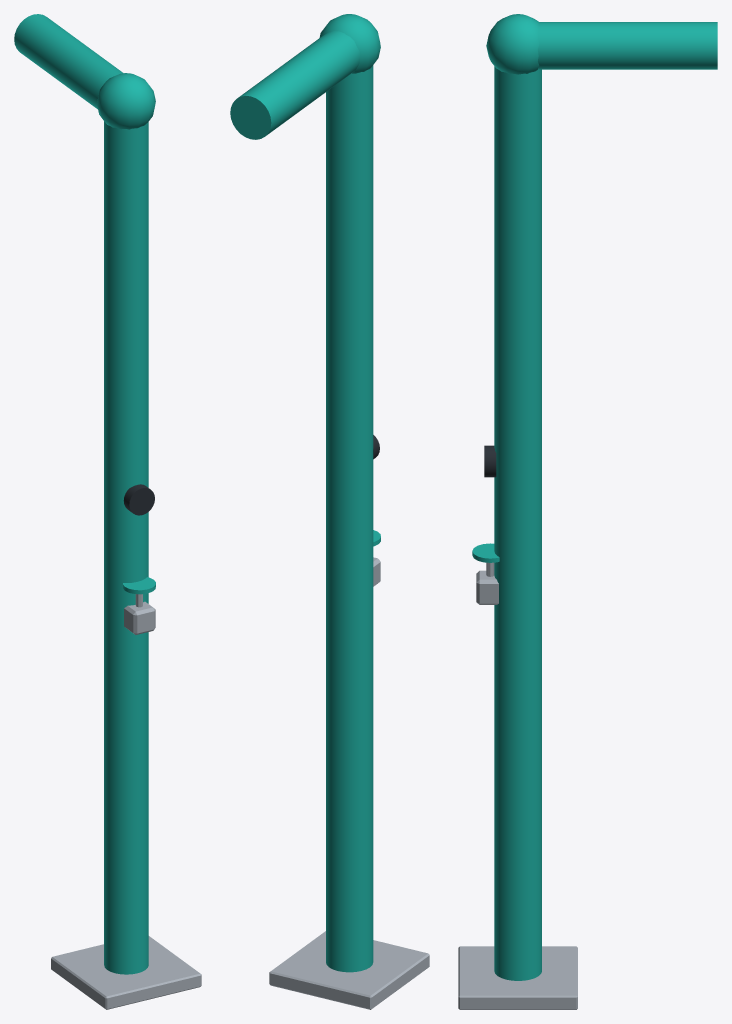
File: pipe-riser.glb
3 renders of one model, left to right at view 1: azimuth 30°, elevation 25°; view 2: azimuth 150°, elevation 25°; view 3: azimuth 270°, elevation 25°, orthographic. The views are drawn at different scales.
Parts seen in each view (by area): view 1: pipe-riser; view 2: pipe-riser; view 3: pipe-riser.
Part boxes in pixels (x1,y1,x2,y2): pipe-riser: (14, 14, 201, 1009); pipe-riser: (230, 14, 429, 1009); pipe-riser: (458, 14, 717, 1009).
Bounding box in the file's own units: 0.3 × 2.68 × 0.65.
